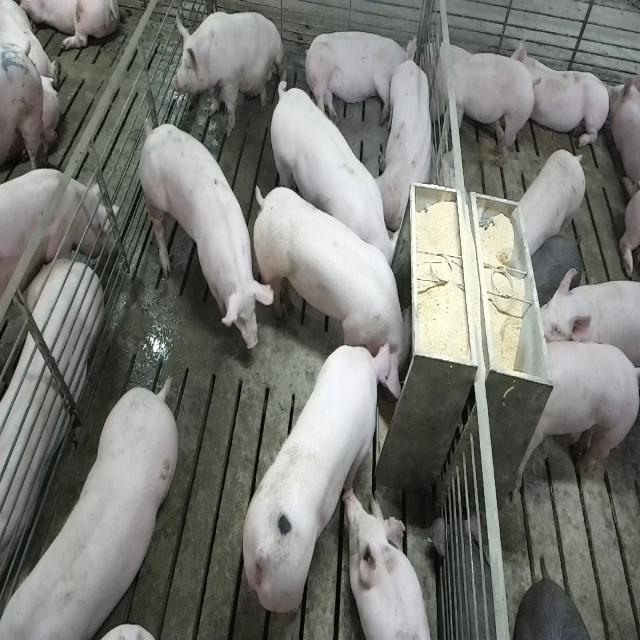Feeding: (240, 338, 401, 619), (255, 174, 421, 386)
Lateral_lying: (0, 252, 101, 614), (302, 28, 418, 128)
Sitting: (171, 7, 285, 136)
Standing: (0, 380, 175, 640), (135, 117, 270, 350), (266, 77, 398, 284), (516, 340, 638, 492), (421, 34, 539, 174), (0, 170, 112, 305), (532, 269, 637, 376), (513, 150, 588, 260)
Sternal_lying: (346, 488, 435, 640), (516, 34, 612, 154), (377, 53, 437, 232)
